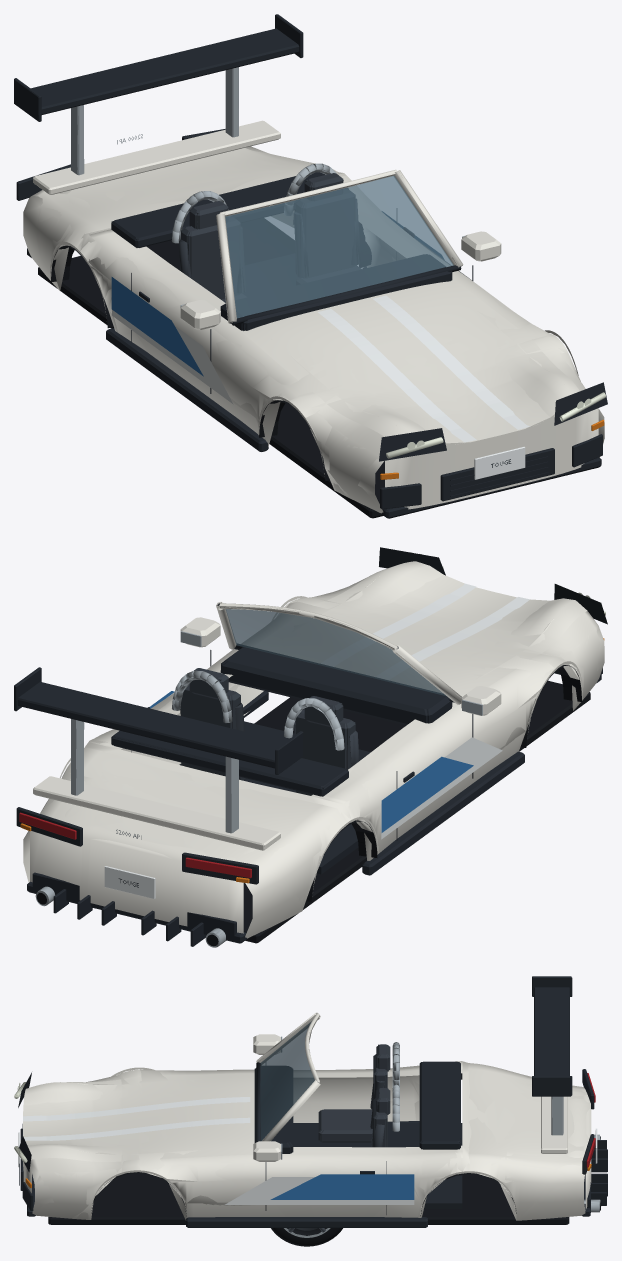
3 renders of one model, top to bottom at view 1: azimuth 30°, elevation 25°; view 2: azimuth 150°, elevation 25°; view 3: azimuth 270°, elevation 25°, orthographic. The views are drawn at different scales.
Parts seen in each view (by area): view 1: LOD0_body, LOD1_body, LOD0_cabin, LOD0_glass, LOD1_glass, LOD0_hood, LOD1_hood, LOD1_spoiler_gt, LOD0_spoiler_gt, LOD1_cabin, LOD0_vinyl_apex, LOD1_spoiler_stock (+3 smaller); view 2: LOD0_body, LOD1_body, LOD0_cabin, LOD0_hood, LOD1_hood, LOD1_glass, LOD0_glass, LOD1_spoiler_gt, LOD0_spoiler_gt, LOD1_cabin, LOD0_vinyl_apex, LOD1_spoiler_stock (+3 smaller); view 3: LOD0_body, LOD1_body, LOD0_cabin, LOD0_hood, LOD1_hood, LOD0_vinyl_apex, LOD0_glass, LOD1_glass, LOD1_cabin, LOD1_spoiler_gt, LOD0_spoiler_gt, LOD0_vinyl_twin (+4 smaller).
Boxes of the visible parts, x1,y1,x2,y2 form: LOD0_body: (16, 129, 607, 518); LOD1_body: (18, 136, 604, 518); LOD0_cabin: (111, 163, 463, 330); LOD0_glass: (225, 176, 452, 317); LOD1_glass: (225, 176, 453, 318); LOD0_hood: (240, 278, 579, 444); LOD1_hood: (289, 310, 550, 443); LOD1_spoiler_gt: (14, 28, 302, 175); LOD0_spoiler_gt: (14, 14, 303, 174); LOD1_cabin: (111, 169, 461, 330); LOD0_vinyl_apex: (111, 211, 471, 404); LOD1_spoiler_stock: (33, 120, 280, 194); LOD0_body: (17, 547, 607, 947); LOD1_body: (16, 554, 604, 947); LOD0_cabin: (111, 602, 461, 874); LOD0_hood: (254, 561, 587, 708); LOD1_hood: (322, 575, 550, 683); LOD1_glass: (225, 609, 445, 695); LOD0_glass: (226, 609, 446, 696); LOD1_spoiler_gt: (16, 667, 292, 833); LOD0_spoiler_gt: (14, 667, 303, 833); LOD1_cabin: (111, 602, 460, 873); LOD0_vinyl_apex: (149, 691, 502, 839); LOD1_spoiler_stock: (33, 776, 279, 850); LOD0_body: (14, 1034, 607, 1227); LOD1_body: (14, 1034, 601, 1227); LOD0_cabin: (254, 1012, 462, 1208); LOD0_hood: (23, 1073, 254, 1161); LOD1_hood: (23, 1079, 212, 1154); LOD0_vinyl_apex: (225, 1174, 414, 1204); LOD0_glass: (260, 1021, 314, 1140); LOD1_glass: (260, 1022, 314, 1140); LOD1_cabin: (258, 1013, 462, 1208); LOD1_spoiler_gt: (532, 978, 572, 1135); LOD0_spoiler_gt: (532, 976, 572, 1135); LOD0_vinyl_twin: (28, 1097, 250, 1140).
Size of the model in its own units: 2.01 by 1.73 by 4.32.
